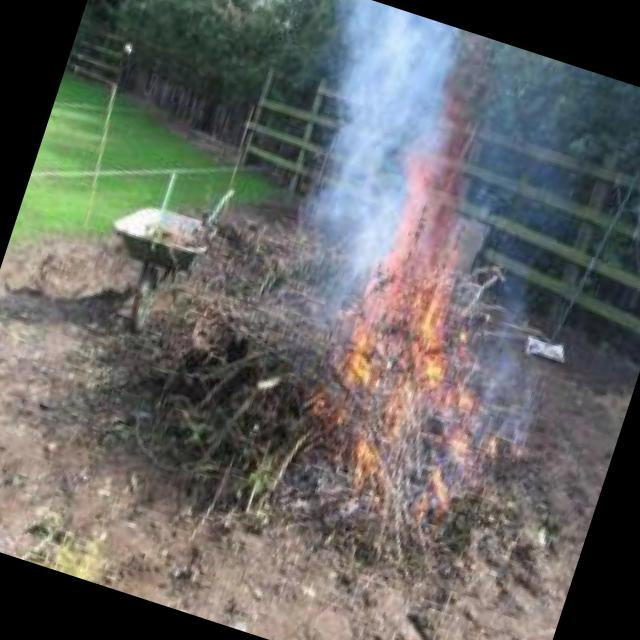fire: (330, 233, 543, 518)
smoke: (259, 0, 495, 307)
